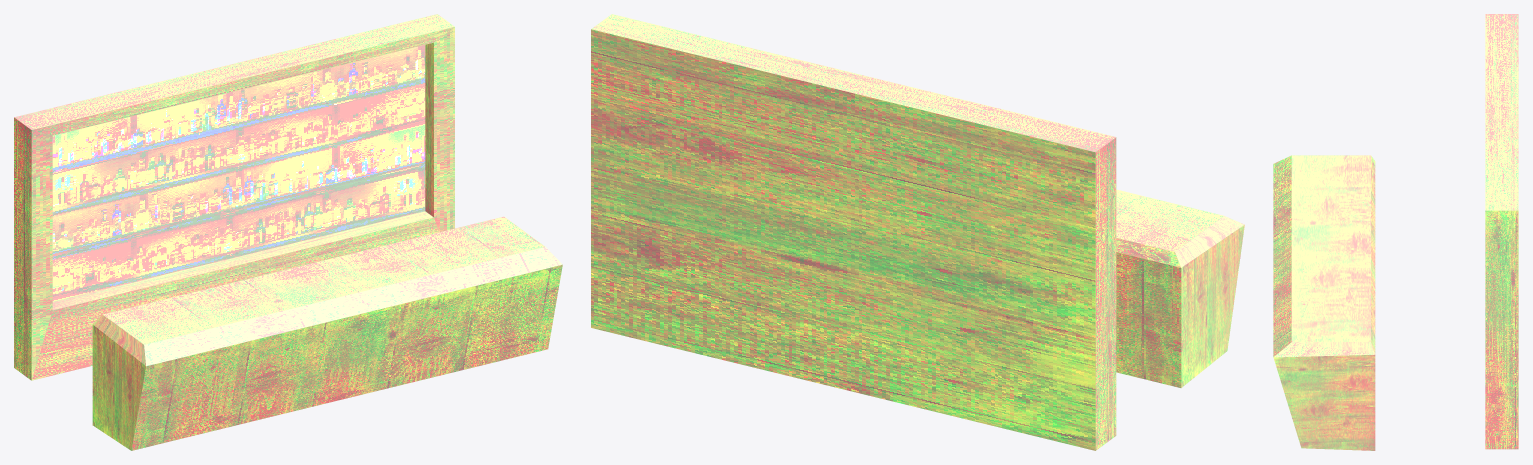
The model's file is bar.glb.
The picture shows the model from 3 angles, left to right: view 1: azimuth 30°, elevation 25°; view 2: azimuth 150°, elevation 25°; view 3: azimuth 270°, elevation 25°; orthographic projection. The views are drawn at different scales.
Visible parts, largest first — view 1: bar; view 2: bar; view 3: bar.
Boxes of the visible parts, x1,y1,x2,y2 form: bar: (14, 14, 562, 450); bar: (591, 14, 1244, 450); bar: (1273, 14, 1518, 450).
Size of the model in its own units: 4.54 by 2.6 by 2.39.
